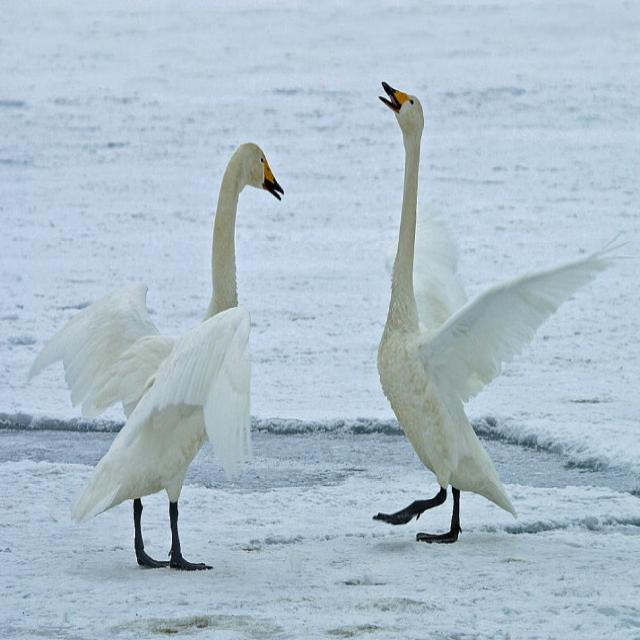bird: (20, 126, 315, 564), (365, 73, 624, 556)
